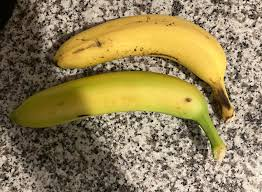banana: (10, 72, 226, 166), (49, 13, 236, 117)
